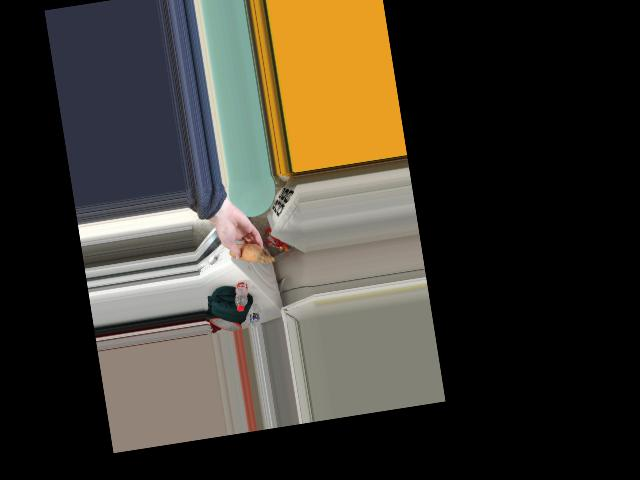sweet_potato: (233, 242, 262, 264)
